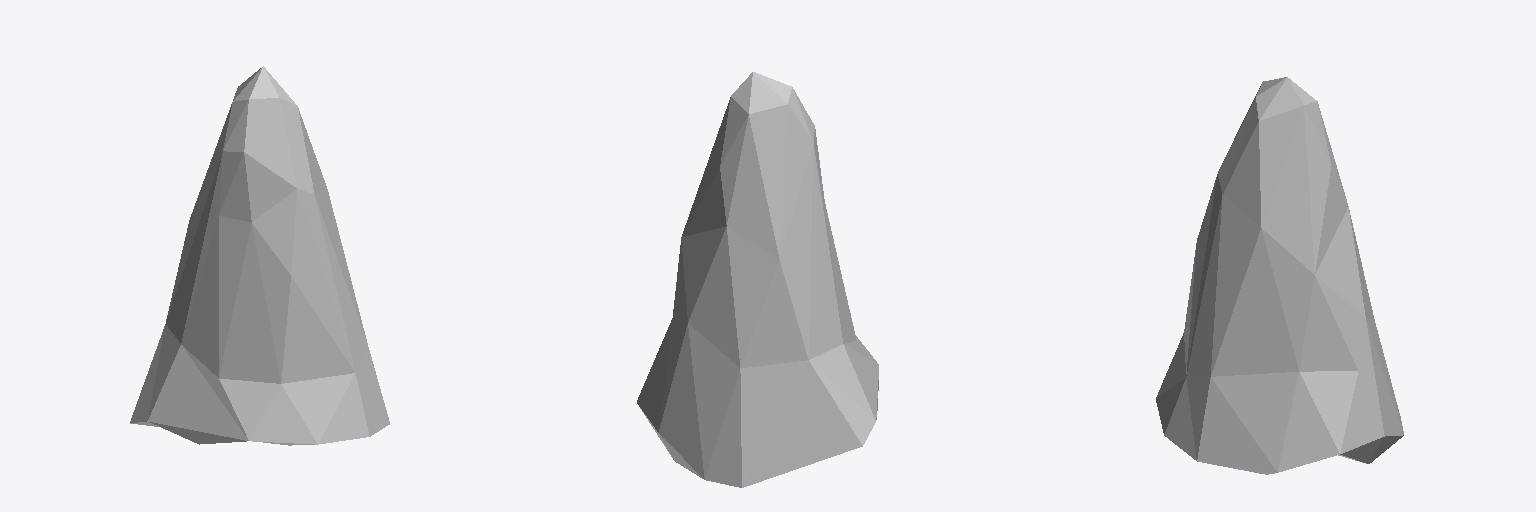
The model's file is tree_conical_up.obj.
3 renders of one model, left to right at view 1: azimuth 30°, elevation 25°; view 2: azimuth 150°, elevation 25°; view 3: azimuth 270°, elevation 25°, orthographic.
Visible parts, largest first — view 1: leaves_Sphere; view 2: leaves_Sphere; view 3: leaves_Sphere.
Boxes of the visible parts, <box> form: leaves_Sphere: <box>130,66,389,445</box>; leaves_Sphere: <box>637,72,878,487</box>; leaves_Sphere: <box>1156,77,1403,474</box>.
Size of the model in its own units: 4.83 by 7.69 by 4.7.